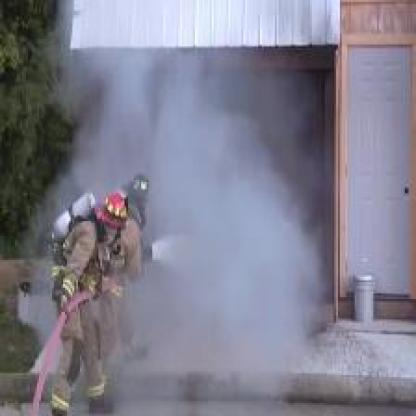other: (92, 185, 139, 234)
